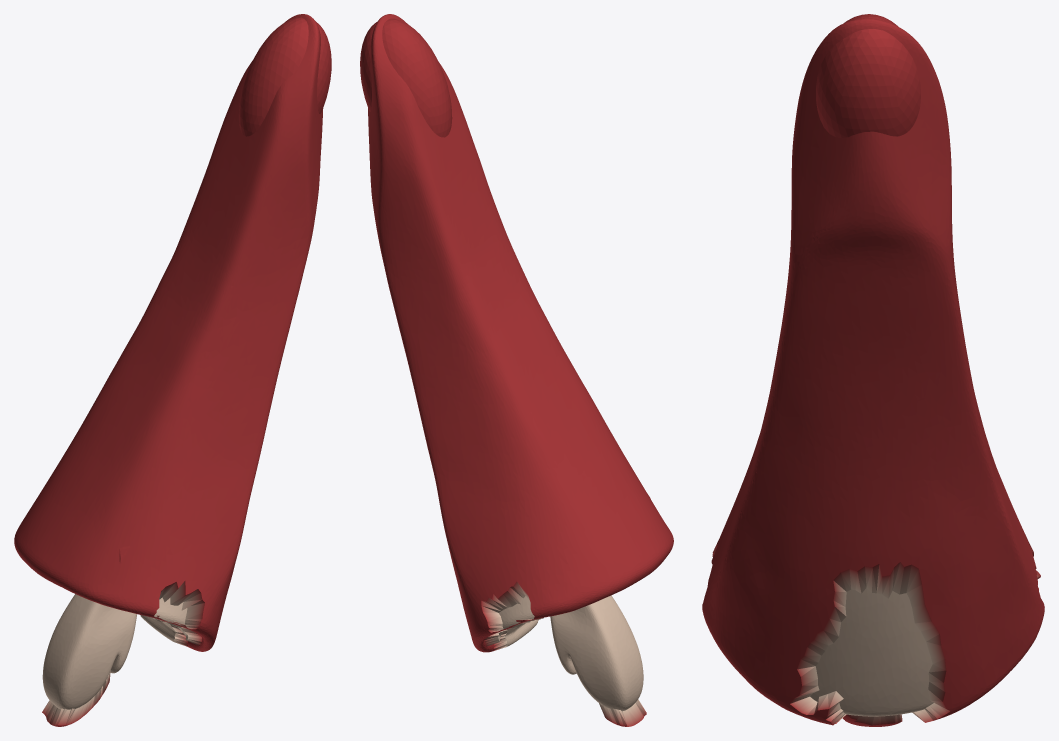
File: arm_R.glb
3 renders of one model, left to right at view 1: azimuth 30°, elevation 25°; view 2: azimuth 150°, elevation 25°; view 3: azimuth 270°, elevation 25°, orthographic. The views are drawn at different scales.
Visible parts, largest first — view 1: geometry_0; view 2: geometry_0; view 3: geometry_0.
Boxes of the visible parts, x1,y1,x2,y2 form: geometry_0: (14,14,331,726); geometry_0: (360,14,673,726); geometry_0: (702,14,1044,726).
Bounding box in the file's own units: 0.3059 × 0.6534 × 0.2333.
